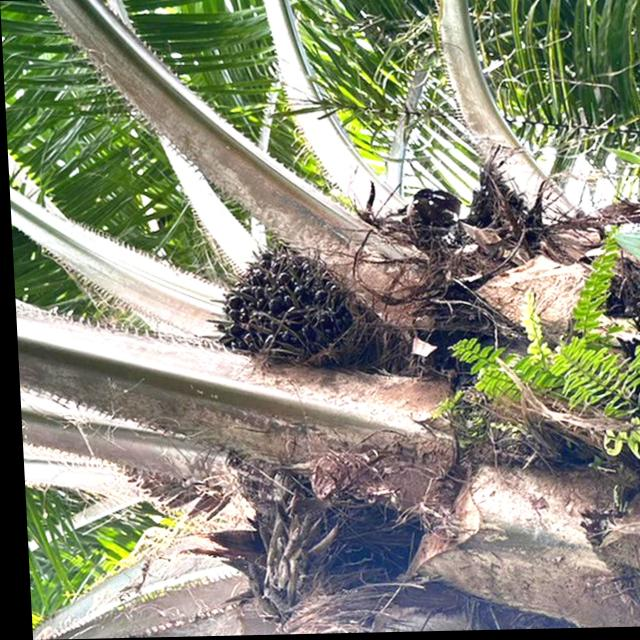almost: (200, 241, 370, 378)
